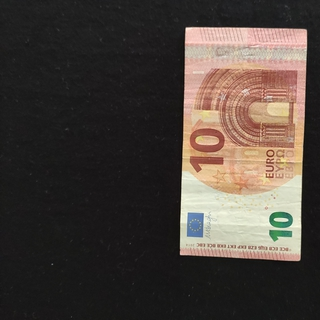10EUROFront: (179, 26, 308, 262)
